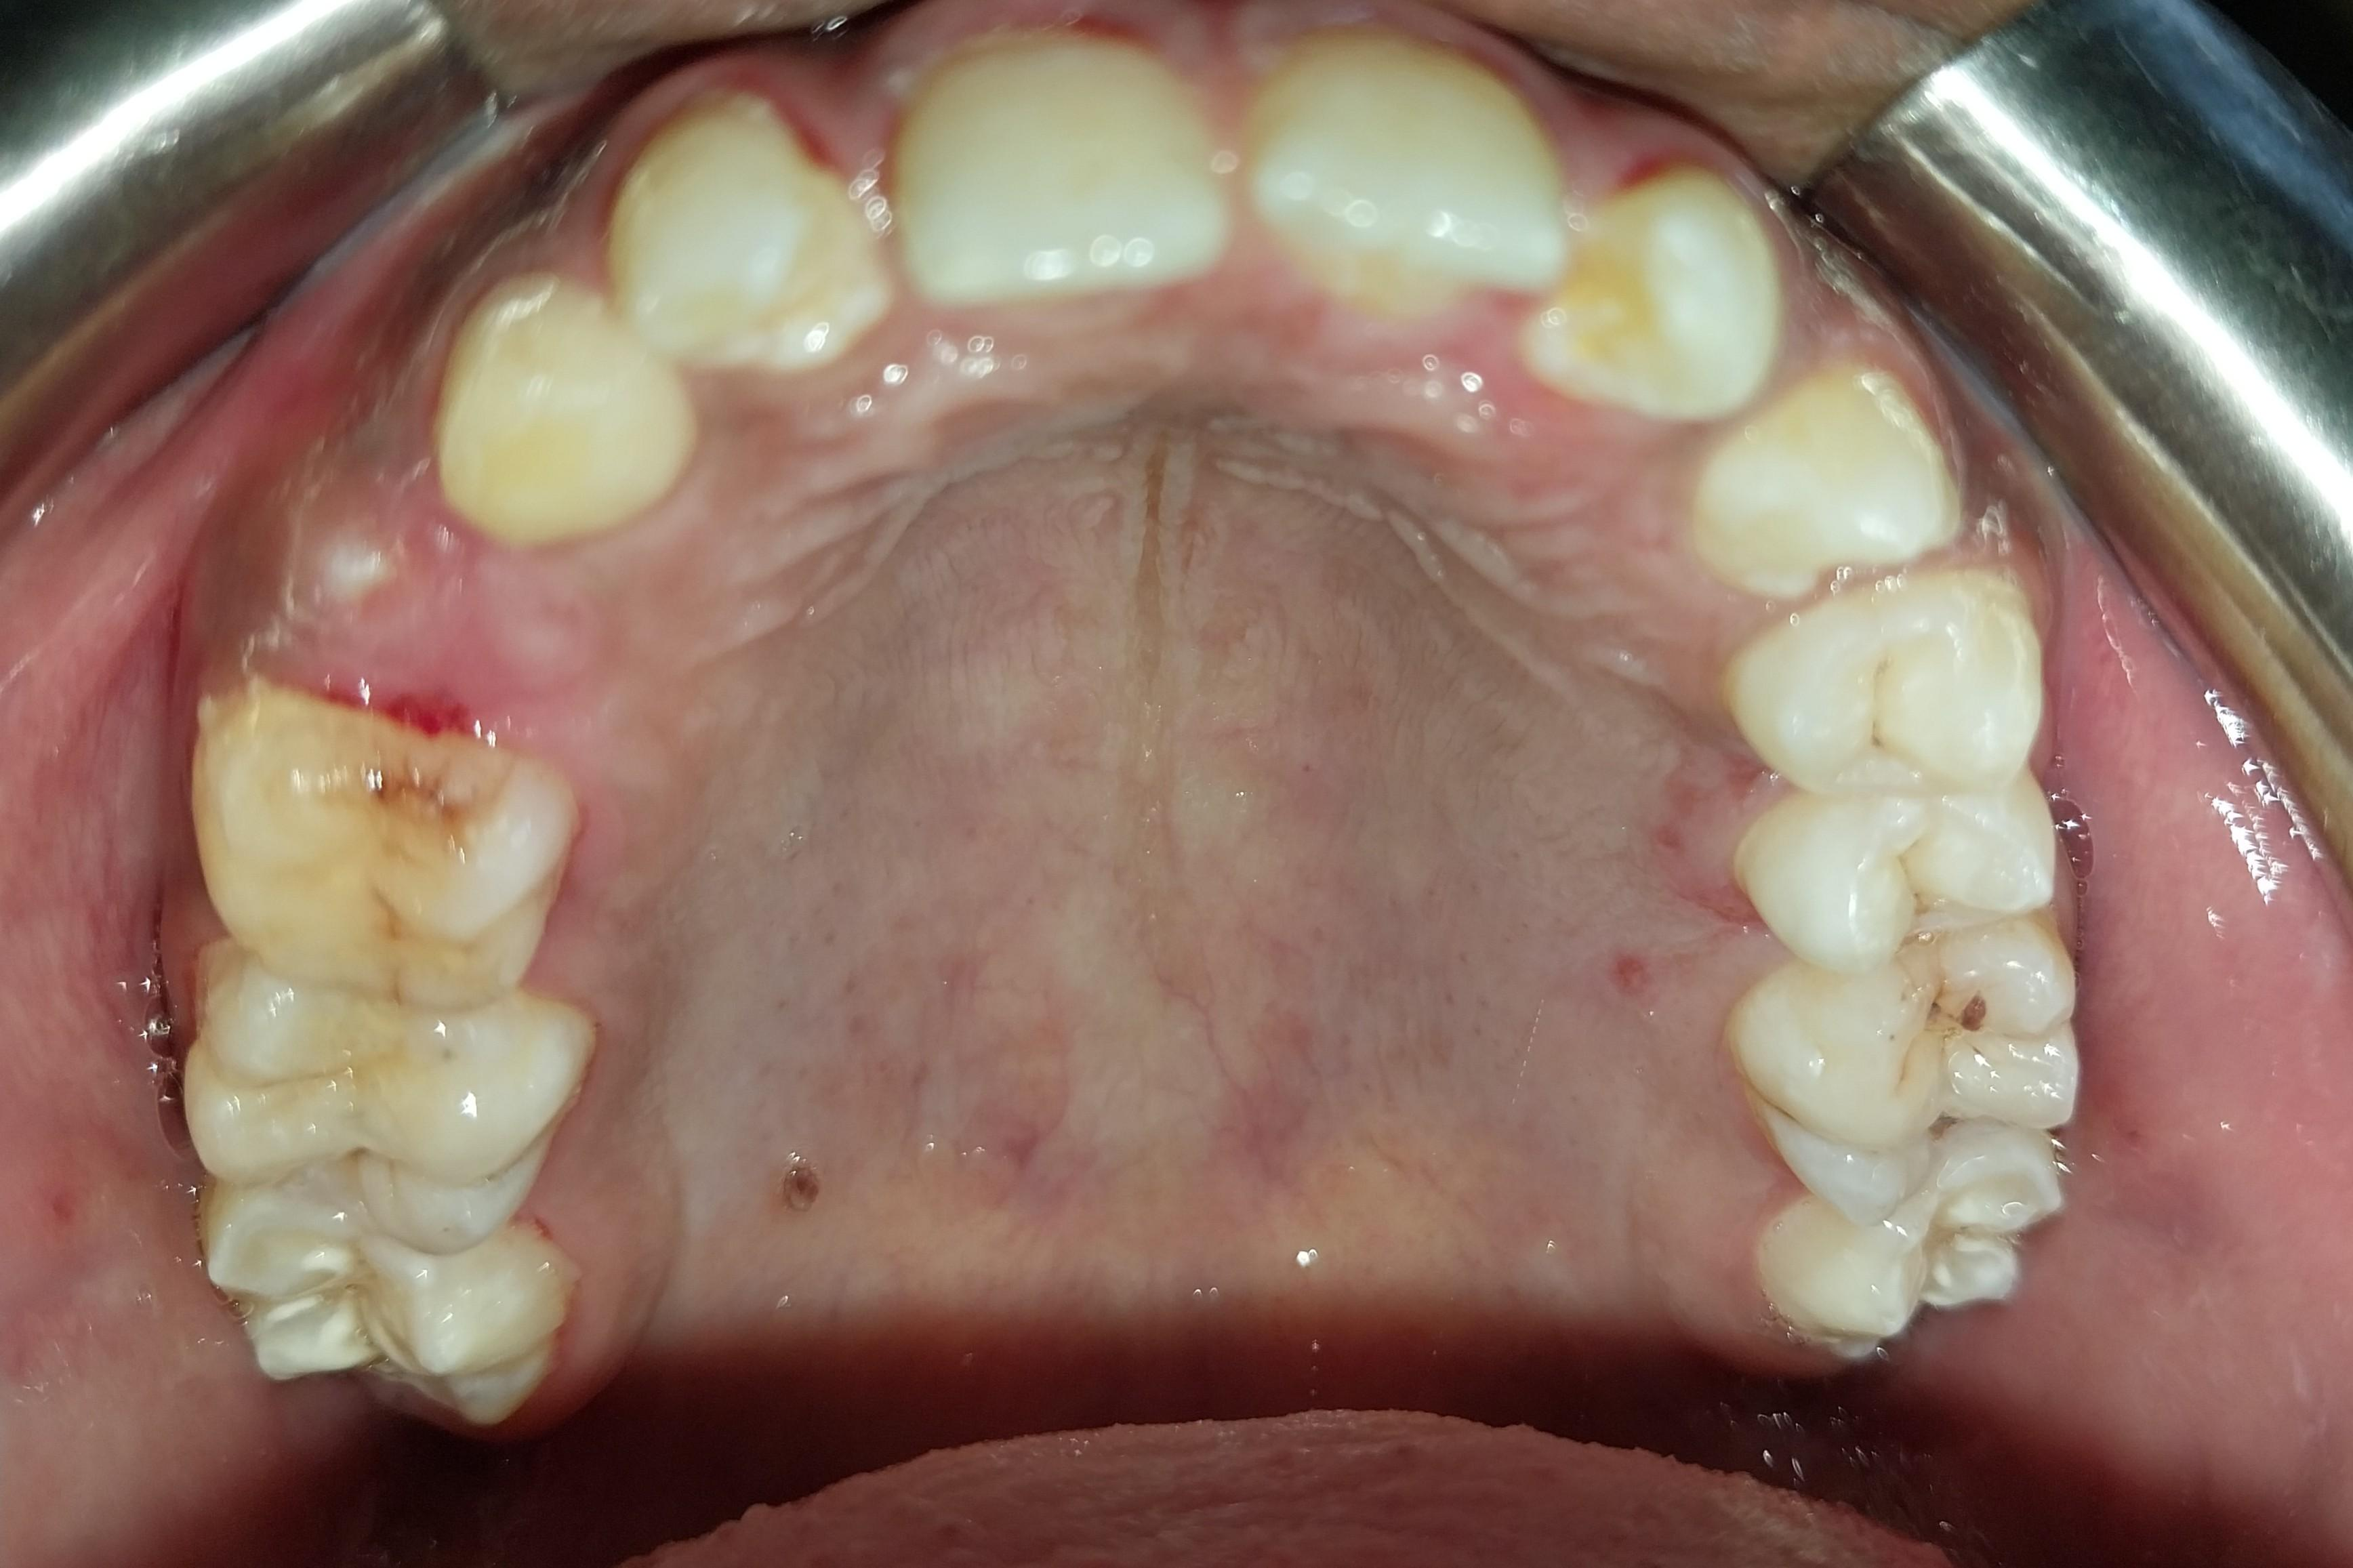D: (206, 676, 567, 1017), (1738, 933, 2079, 1234), (1751, 784, 2066, 966)
